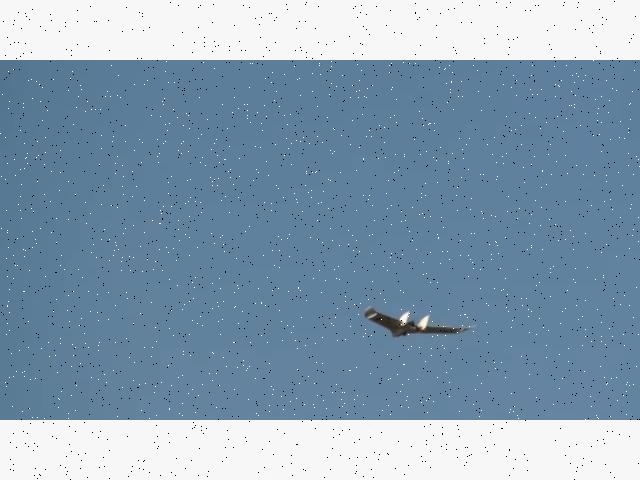Anti-Drone: (364, 307, 476, 339)
